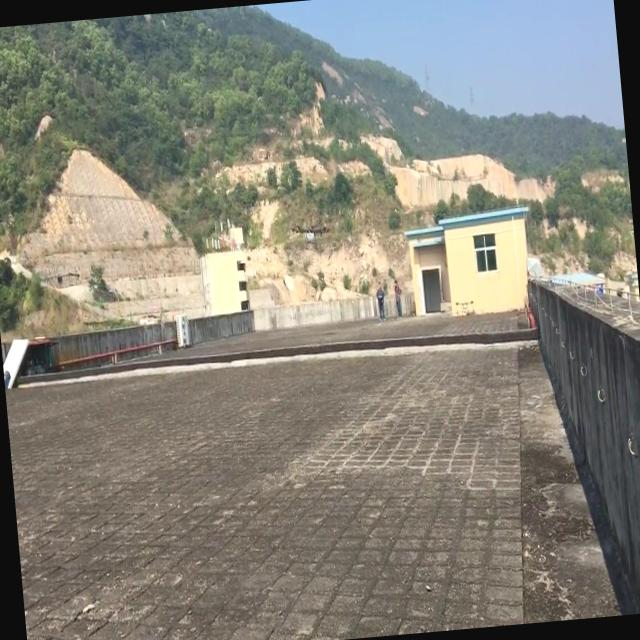drone: (288, 218, 332, 245)
